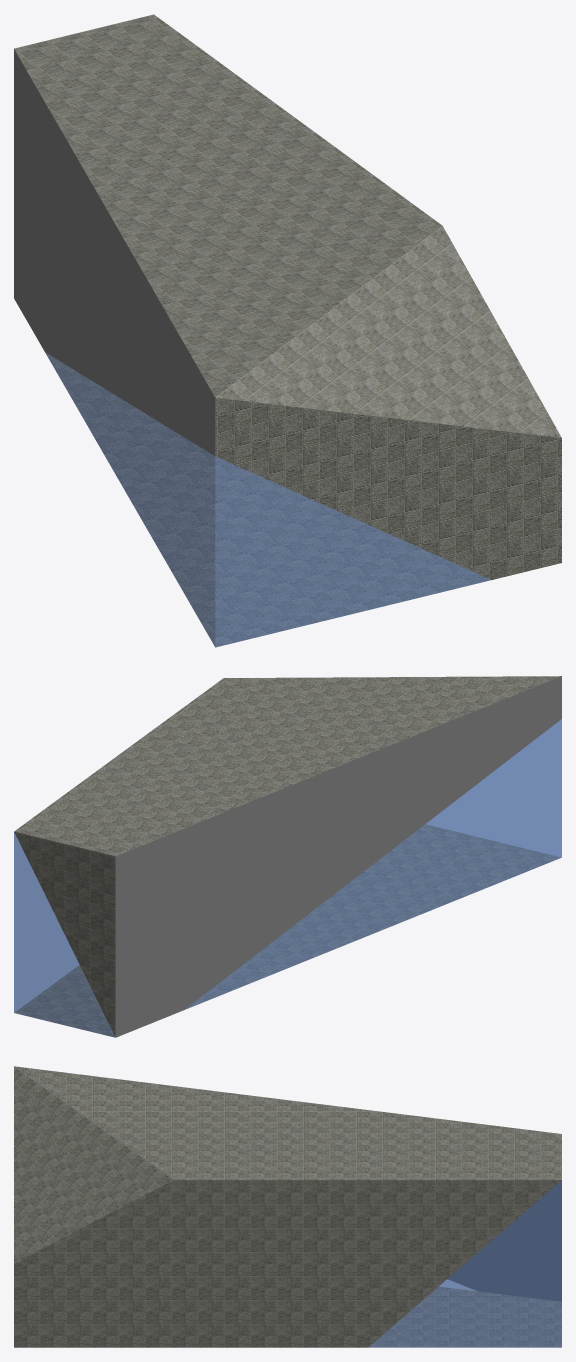
The model's file is RoomB.gltf.
3 renders of one model, top to bottom at view 1: azimuth 30°, elevation 25°; view 2: azimuth 150°, elevation 25°; view 3: azimuth 270°, elevation 25°, orthographic. The views are drawn at different scales.
Parts seen in each view (by area): view 1: ConcreteBlockCoarse, GlassThick; view 2: ConcreteBlockCoarse, GlassThick; view 3: ConcreteBlockCoarse, GlassThick.
Part boxes in pixels (x1,y1,x2,y2): ConcreteBlockCoarse: (14,14,561,647); GlassThick: (45,352,490,647); ConcreteBlockCoarse: (14,676,561,1037); GlassThick: (14,719,561,1037); ConcreteBlockCoarse: (14,1066,561,1347); GlassThick: (368,1180,561,1347).
Size of the model in its own units: 9.32 by 6.42 by 19.
Materials: 3 (1 with a texture image).
